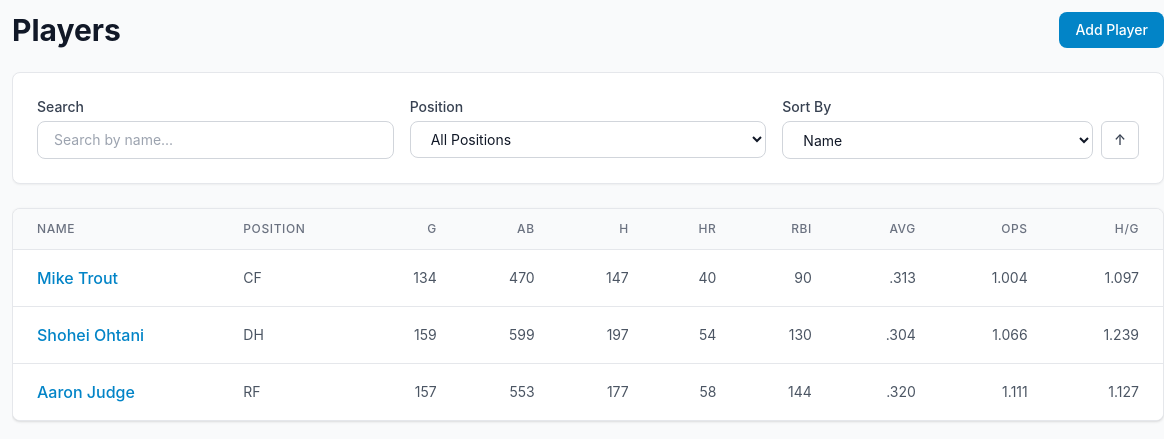
Test: PlayerListPage › should toggle sort order when clicking sort button
This screenshot has width=1164, height=439.
Check: the link "Mike Trout" is shown, box [37,268,118,288]
Click the button titled "ascending" at coordinates (1120, 140), box [1101,121,1139,159]
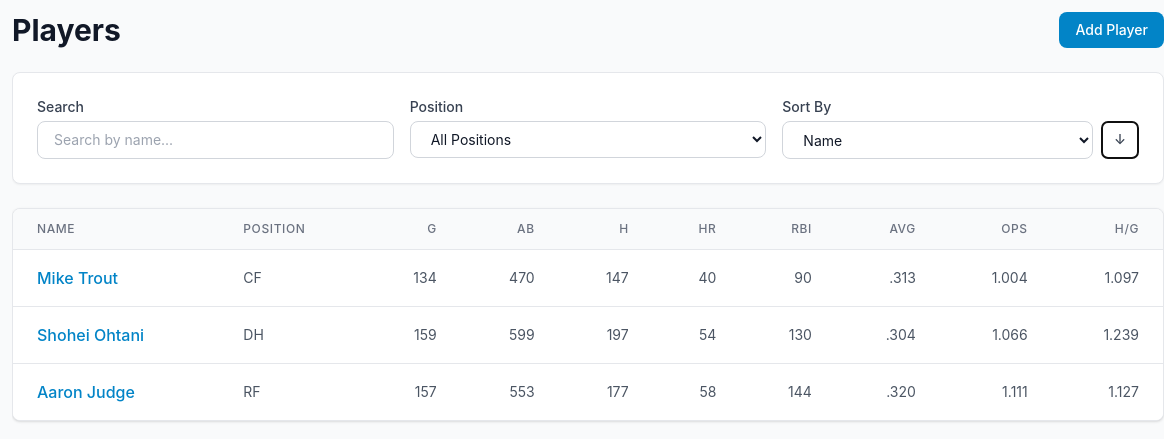
Check: the button titled "ascending" reads "↓", box [1101,121,1139,159]
